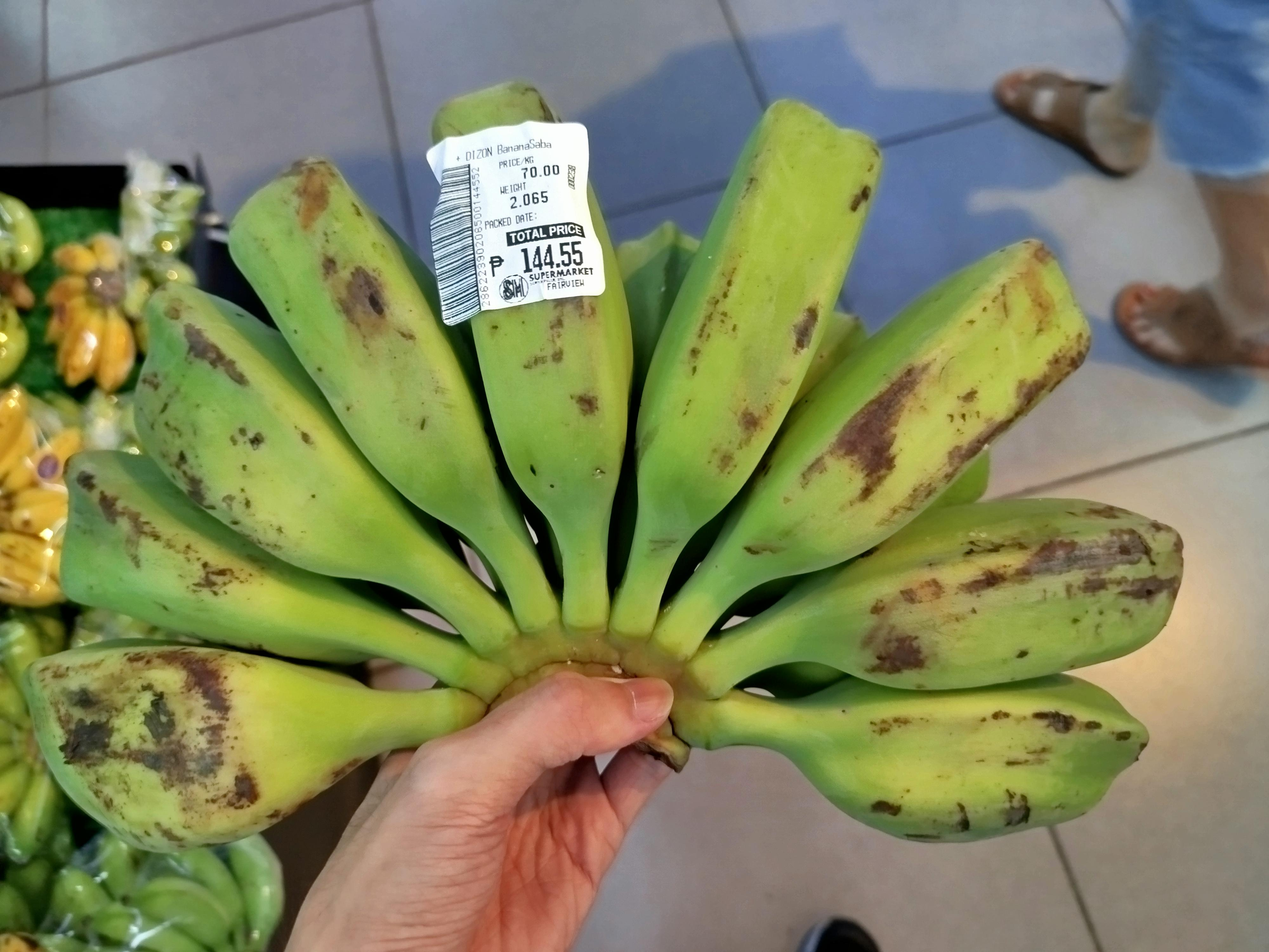underripe: (28, 83, 1182, 847)
